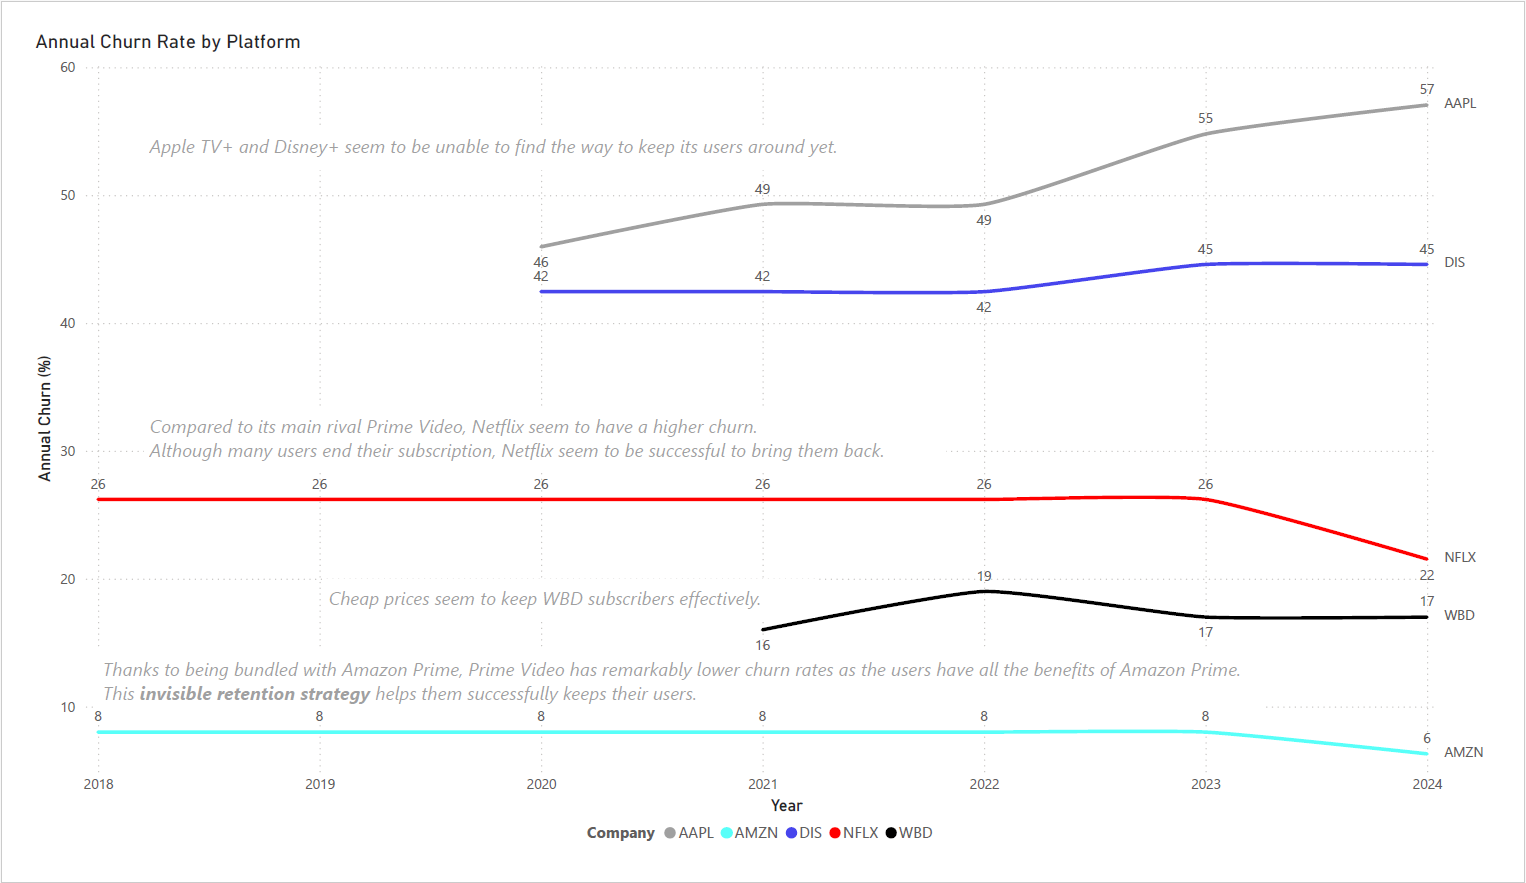

The page's visual inventory and layout, read from the dashboard file:
{"tool":"powerbi","page":{"name":"5. Churn","canvas":[1280,720],"ordinal":6},"visuals":[{"type":"lineChart","title":"Annual Churn Rate by Platform","fields":{"Category":["All Data.Year"],"Y":["Sum(All Data.Annual_Churn)"],"Series":["All Data.Company"]},"box":[0,0,1280.3,720.4],"z":0},{"type":"textbox","box":[59,542,1020,52],"z":1000},{"type":"textbox","box":[256,480,429,33],"z":2000},{"type":"textbox","box":[100,330,698.6,55.7],"z":3000},{"type":"textbox","box":[100,86,655,36],"z":4000}]}

Visuals, with their boxes in screenshot pixels (x1, y1, x2, y2), scaled from the page's 1280x720 canvas onto the 1526x883 screenshot:
"Annual Churn Rate by Platform" lineChart: {"left": 0, "top": 0, "right": 1525, "bottom": 882}
textbox: {"left": 70, "top": 665, "right": 1286, "bottom": 728}
textbox: {"left": 305, "top": 589, "right": 817, "bottom": 629}
textbox: {"left": 119, "top": 405, "right": 952, "bottom": 473}
textbox: {"left": 119, "top": 105, "right": 900, "bottom": 150}
